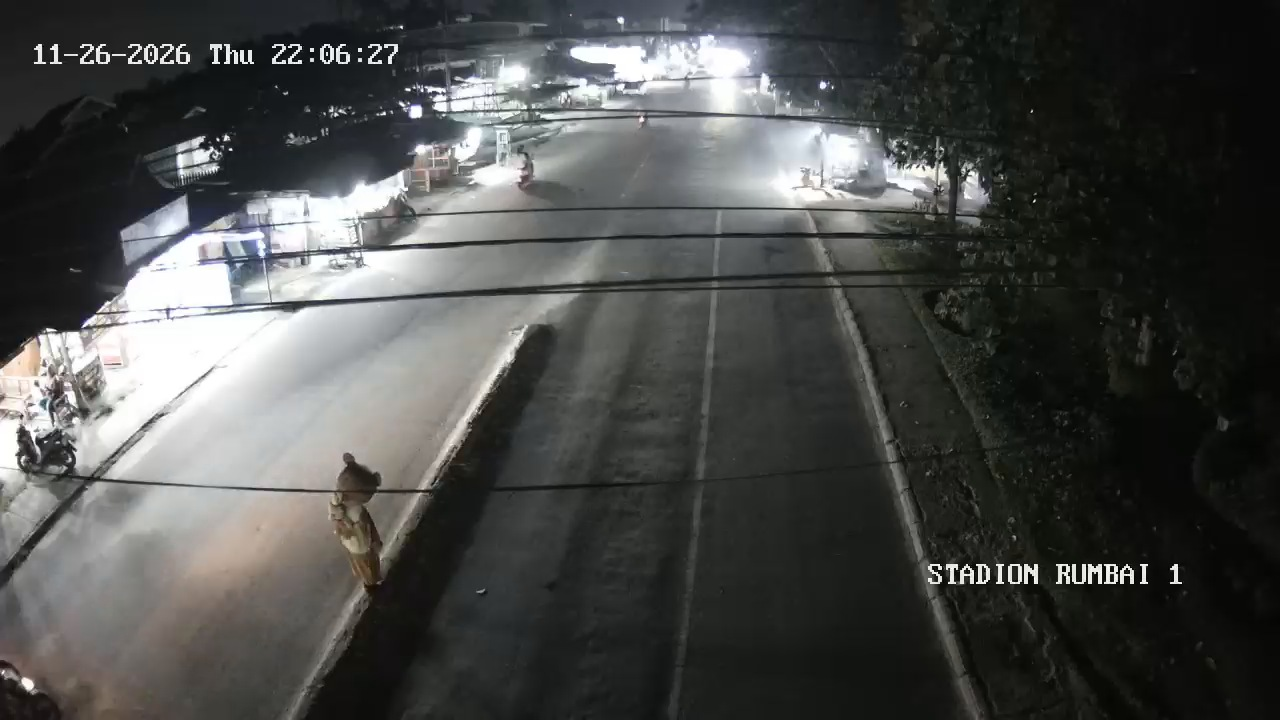Gerobak: (308, 212, 365, 270), (407, 133, 458, 192)
